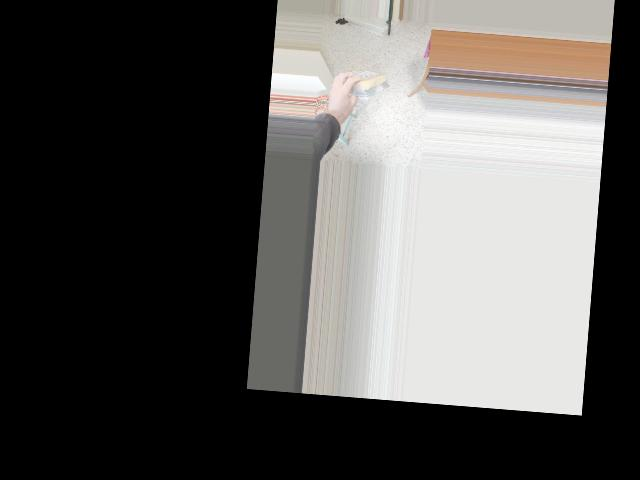cheese: (342, 68, 390, 95)
